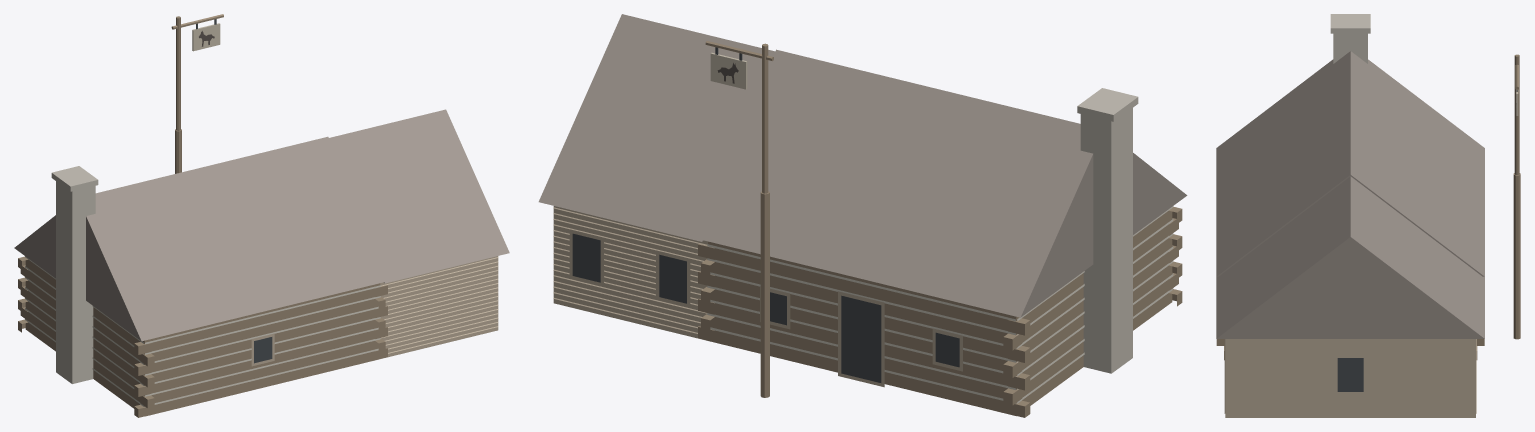
File: wolf_point_tavern__log_frame_1828.glb
3 renders of one model, left to right at view 1: azimuth 30°, elevation 25°; view 2: azimuth 150°, elevation 25°; view 3: azimuth 270°, elevation 25°, orthographic. The views are drawn at different scales.
Visible parts, largest first — view 1: wolf_point_tavern__log_frame_1828; view 2: wolf_point_tavern__log_frame_1828; view 3: wolf_point_tavern__log_frame_1828.
Boxes of the visible parts, x1,y1,x2,y2 form: wolf_point_tavern__log_frame_1828: [14, 14, 509, 417]; wolf_point_tavern__log_frame_1828: [538, 14, 1187, 417]; wolf_point_tavern__log_frame_1828: [1216, 14, 1520, 417].
Bounding box in the file's own units: 13.07 × 8.7 × 8.5.
